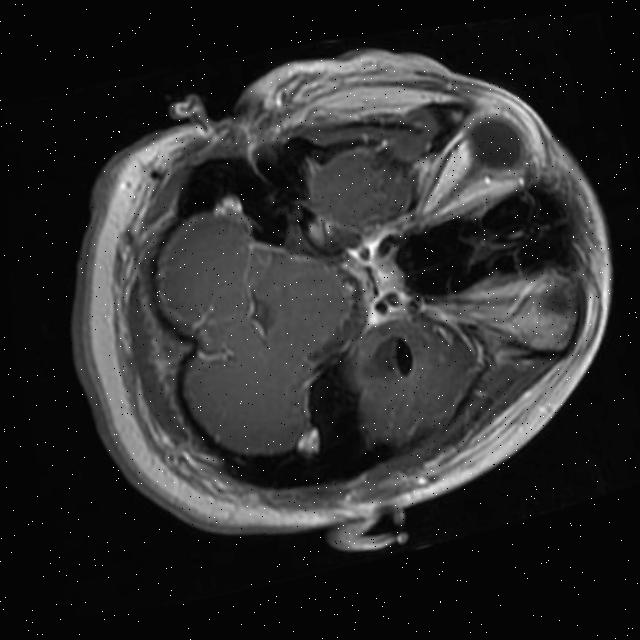Glioma: (356, 331, 418, 390)
Pituitary: (371, 240, 410, 298)
